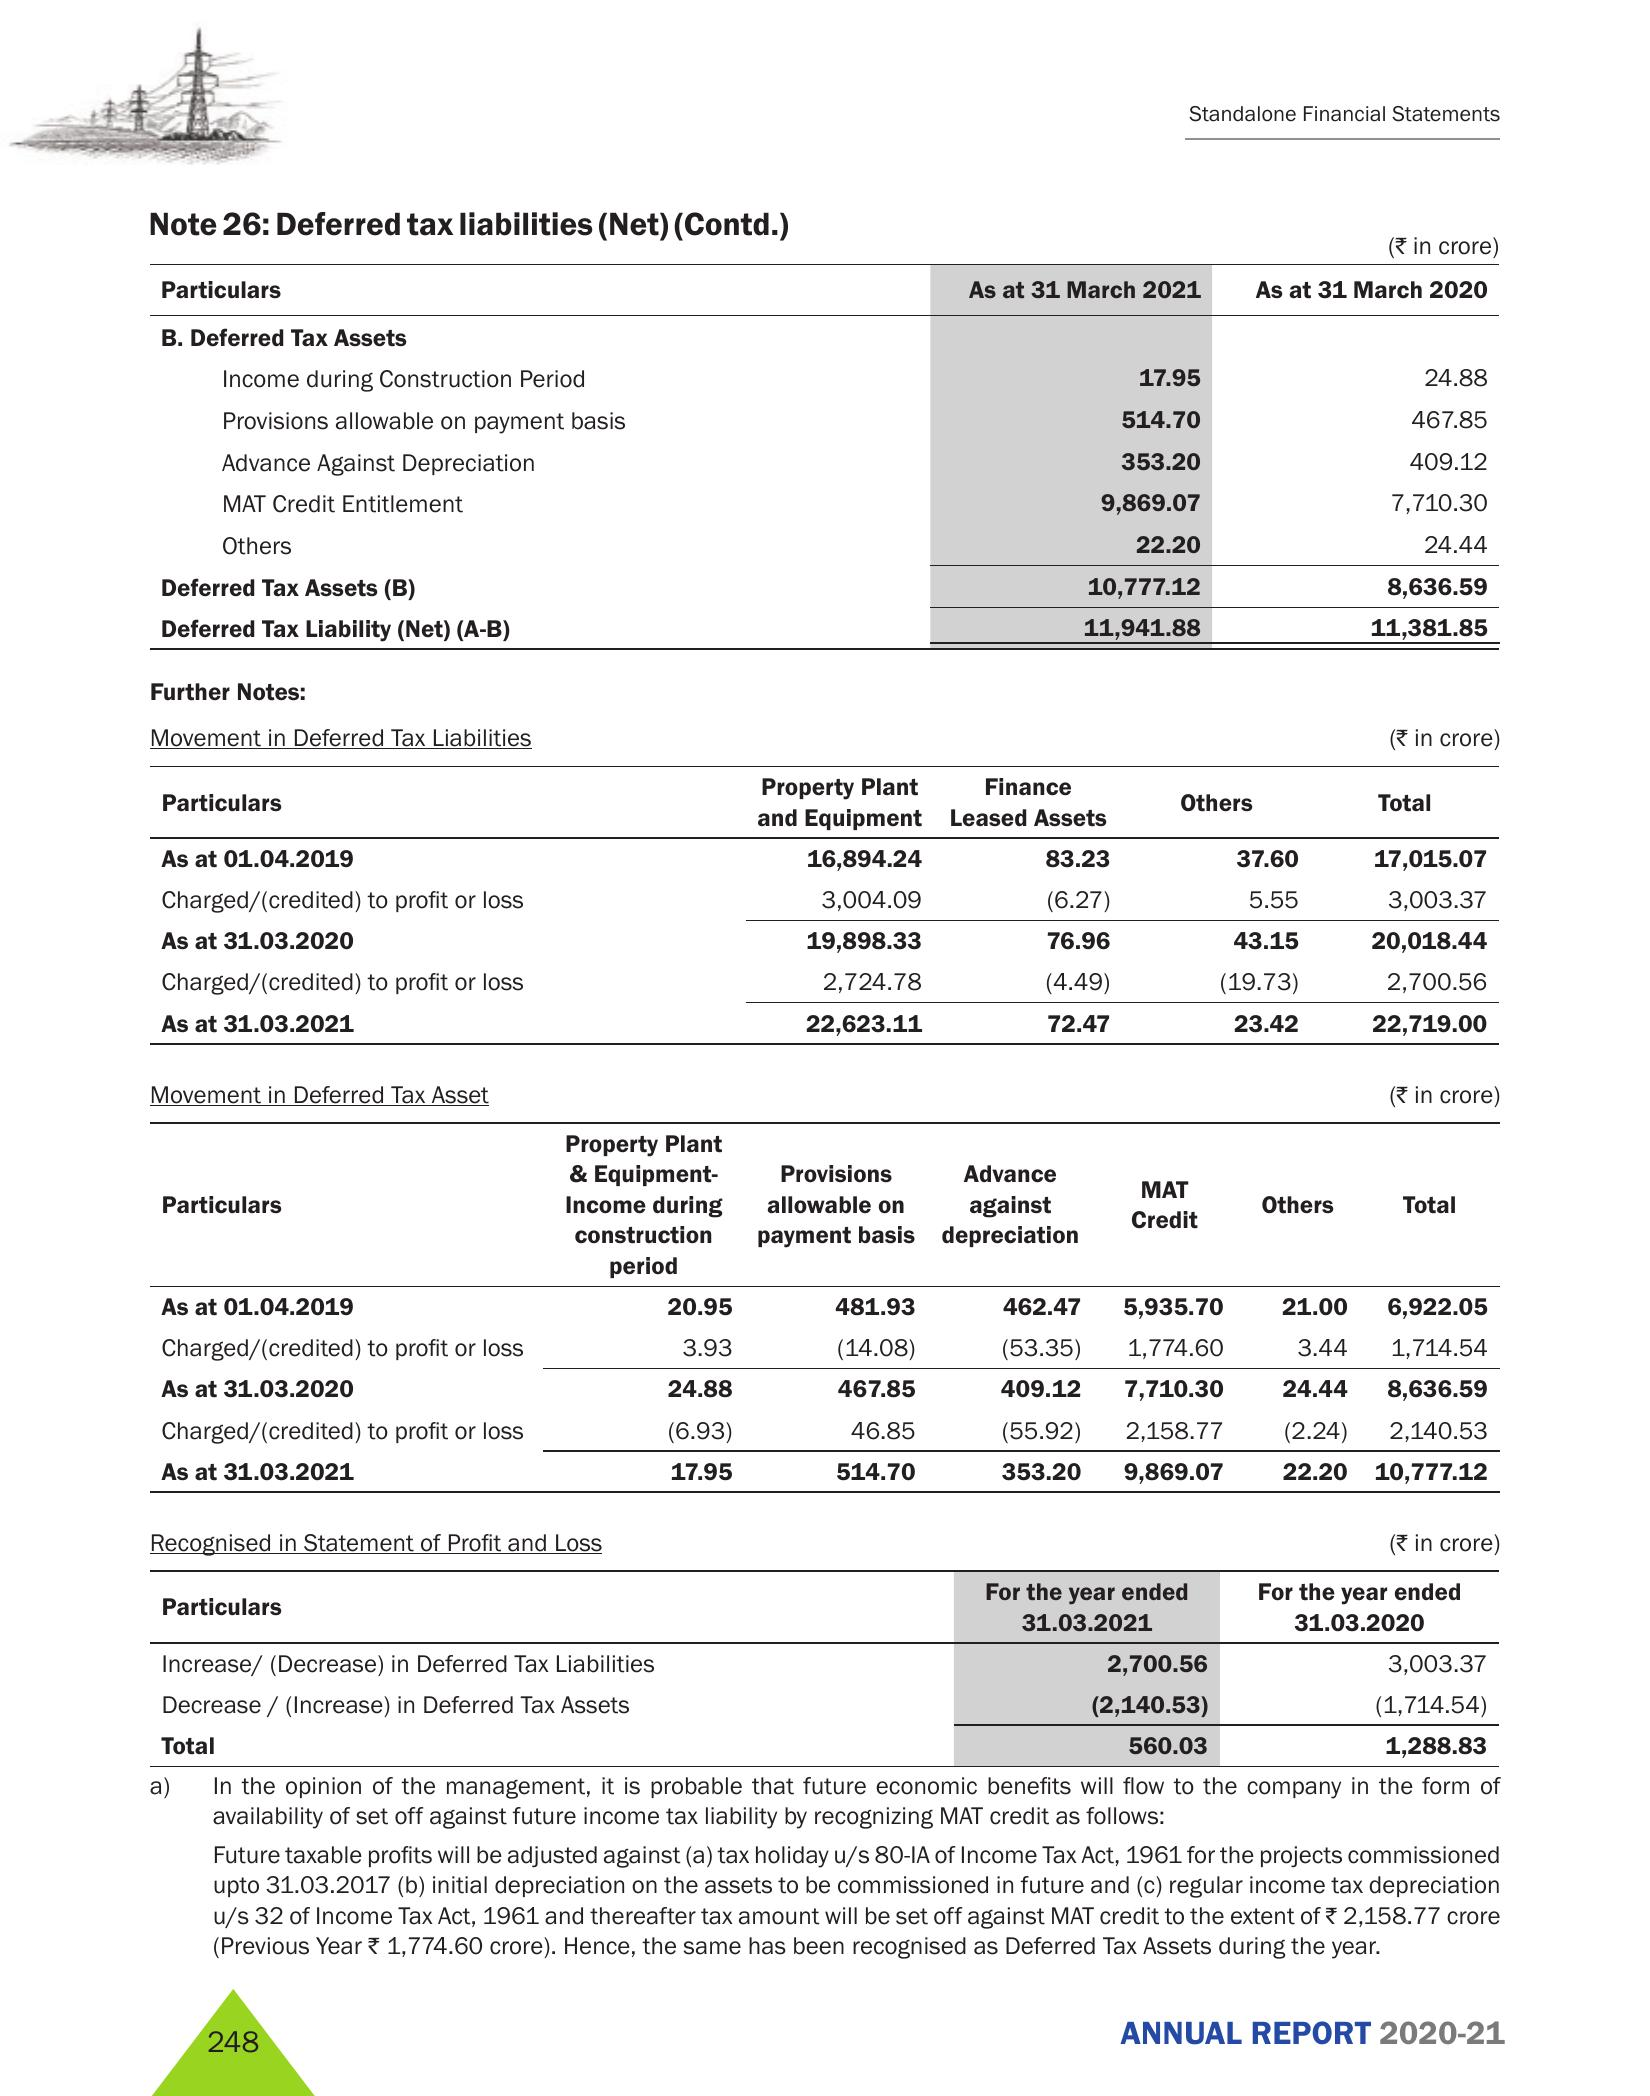Footer: (0, 1979, 1650, 2096)
Header: (0, 0, 1650, 172)
Table: (126, 242, 1516, 658), (117, 715, 1507, 1131), (111, 1140, 1545, 1504), (111, 1516, 1539, 1776)
